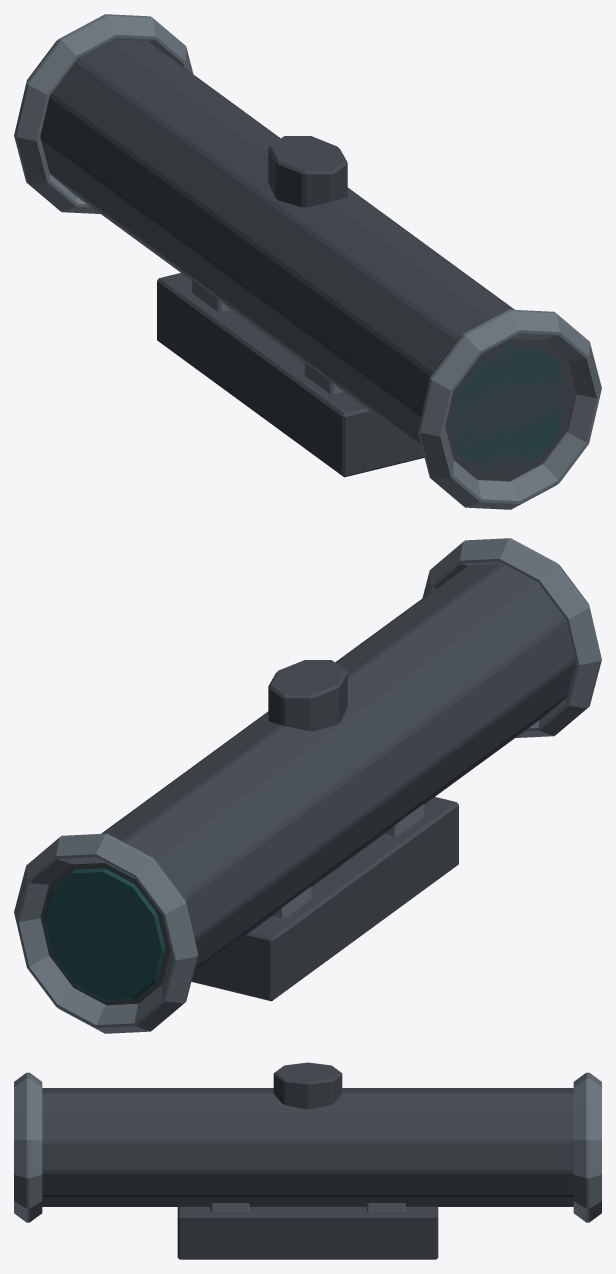
File: Firearm_814.fbx
3 views of the same model, one above another, from view 1: azimuth 30°, elevation 25°; view 2: azimuth 150°, elevation 25°; view 3: azimuth 270°, elevation 25° (orthographic). The views are drawn at different scales.
Visible parts, largest first — view 1: Firearm_814; view 2: Firearm_814; view 3: Firearm_814.
Part boxes in pixels (left/top/right/bottom): Firearm_814: left=14, top=14, right=601, bottom=509; Firearm_814: left=14, top=538, right=601, bottom=1033; Firearm_814: left=14, top=1062, right=601, bottom=1259.
Size of the model in its own units: 0.1121 by 0.1425 by 0.4517.
